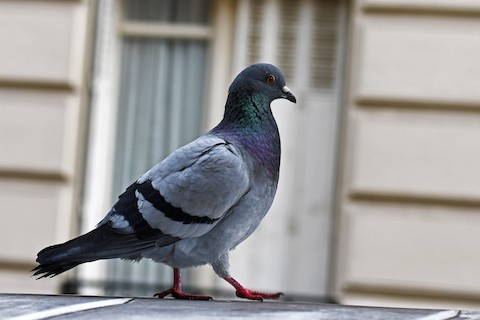pigeon: (29, 59, 307, 306)
